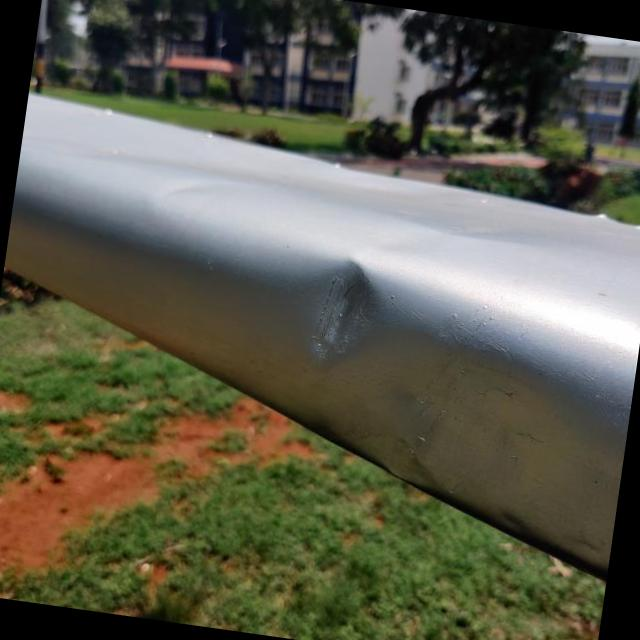Dent: (299, 261, 393, 371)
